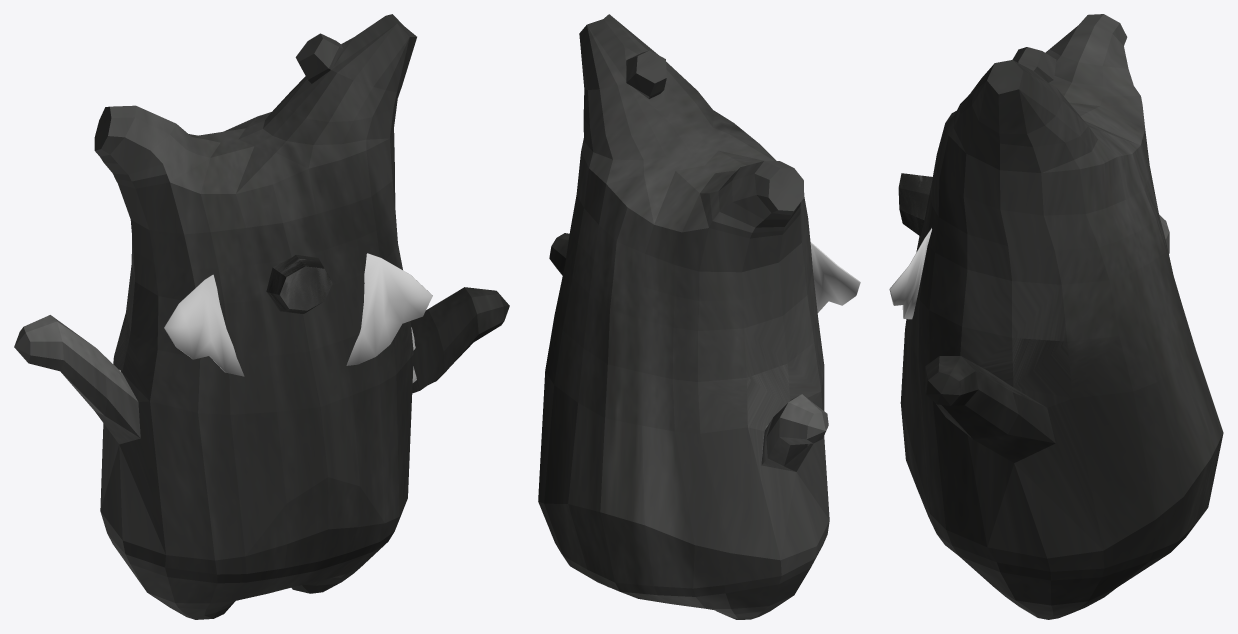
The model's file is frame_0121.obj.
3 renders of one model, left to right at view 1: azimuth 30°, elevation 25°; view 2: azimuth 150°, elevation 25°; view 3: azimuth 270°, elevation 25°, orthographic. The views are drawn at different scales.
Visible parts, largest first — view 1: korok, leaf, nose; view 2: korok, leaf; view 3: korok, nose, leaf.
Part boxes in pixels (x1=…): korok: x1=14, y1=14, x2=509, y2=619; leaf: x1=164, y1=253, x2=432, y2=376; nose: x1=266, y1=255, x2=332, y2=313; korok: x1=538, y1=14, x2=829, y2=619; leaf: x1=810, y1=242, x2=860, y2=312; korok: x1=900, y1=14, x2=1223, y2=619; nose: x1=898, y1=173, x2=932, y2=236; leaf: x1=889, y1=228, x2=931, y2=319.
Size of the model in its own units: 1.66 by 2.32 by 1.21.
